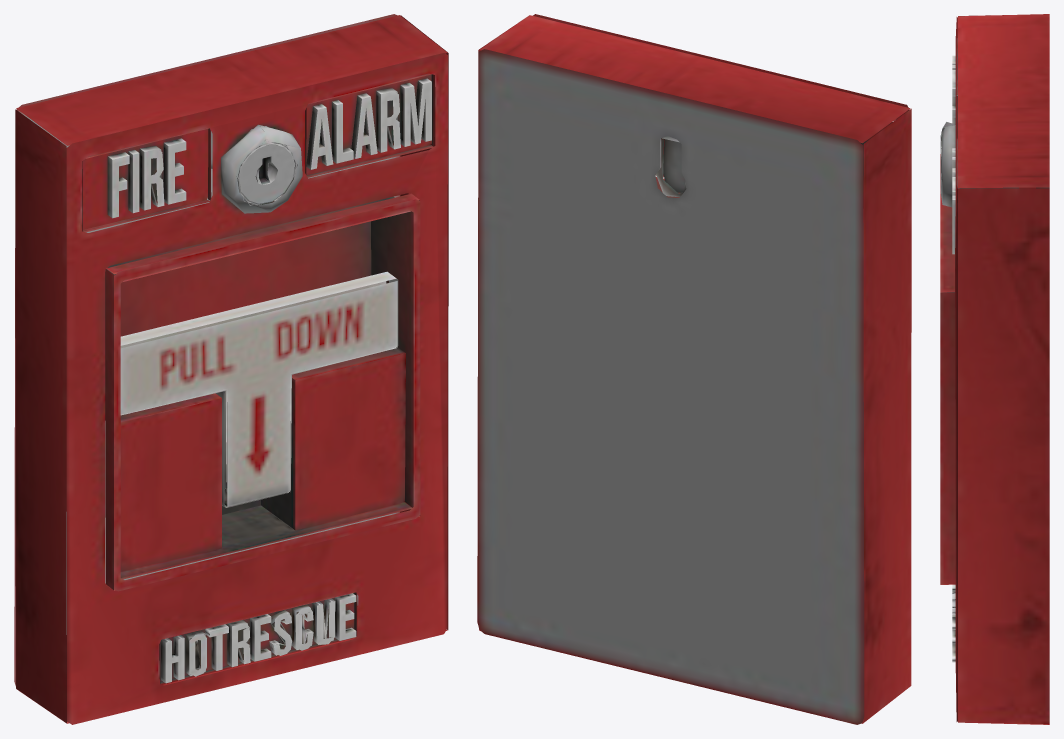
File: distance.fbx
The picture shows the model from 3 angles, left to right: view 1: azimuth 30°, elevation 25°; view 2: azimuth 150°, elevation 25°; view 3: azimuth 270°, elevation 25°; orthographic projection. The views are drawn at different scales.
Visible parts, largest first — view 1: fire_alarm, fire_alarm_lever; view 2: fire_alarm; view 3: fire_alarm.
Part boxes in pixels (box(x1,y1,x2,y2)): fire_alarm: box(14, 14, 448, 724); fire_alarm_lever: box(120, 271, 398, 507); fire_alarm: box(477, 14, 911, 724); fire_alarm: box(940, 14, 1049, 724).
Bounding box in the file's own units: 9.94 × 14.36 × 2.64.
